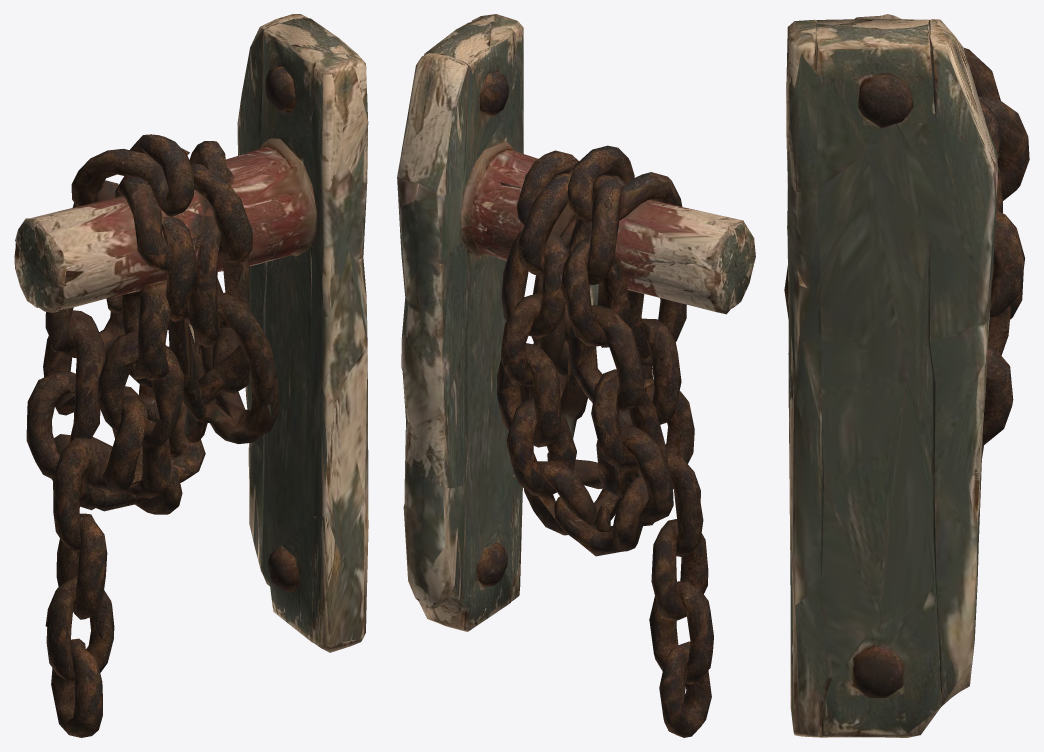
The model's file is chain_coil.glb.
3 renders of one model, left to right at view 1: azimuth 30°, elevation 25°; view 2: azimuth 150°, elevation 25°; view 3: azimuth 270°, elevation 25°, orthographic. The views are drawn at different scales.
Parts seen in each view (by area): view 1: chain_coil; view 2: chain_coil; view 3: chain_coil.
Boxes of the visible parts, bbox=[...] form: chain_coil: bbox=[14, 14, 368, 737]; chain_coil: bbox=[397, 14, 755, 737]; chain_coil: bbox=[784, 14, 1029, 737].
Bounding box in the file's own units: 0.3567 × 0.7 × 0.2014.
Materials: 1 (1 with a texture image).
